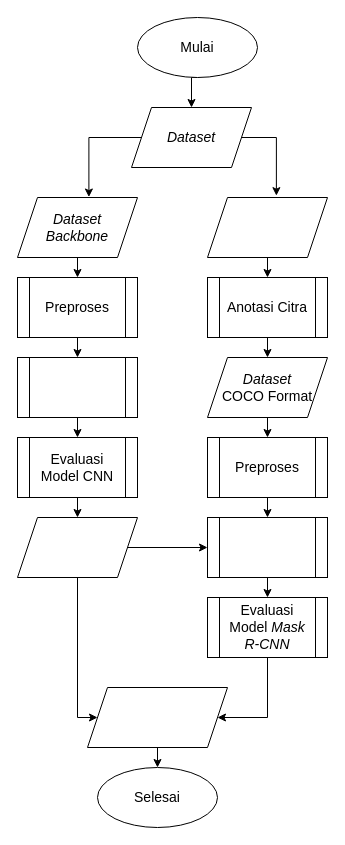
The diagram is 345 pixels wide and 845 high, and some of its shapes have lost their labels. Here are the shapes that lost their labels. From the top down, the centre of each, then its label:
At point (267, 227): "Dataset R-CNN".
At point (77, 387): "Pelatihan Model CNN".
At point (77, 547): "Simpan Model".
At point (267, 547): "Pelatihan Model Mask R-CNN".
At point (157, 717): "Hasil Klasifikasi dan Deteksi".
